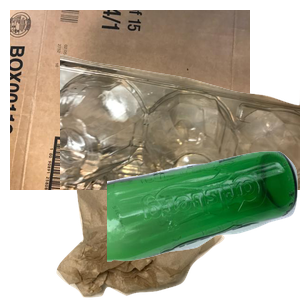cardboard: (10, 10, 250, 190)
glass: (107, 149, 300, 300)
plastic: (60, 52, 300, 232)
trash: (54, 147, 271, 300)
